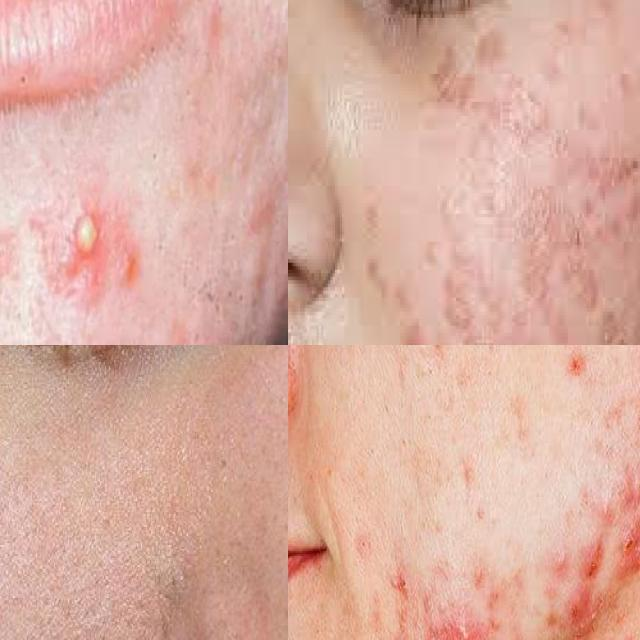comedone: (200, 416, 239, 520), (348, 497, 389, 583), (158, 556, 208, 622), (468, 345, 508, 404), (417, 345, 451, 390)
flat_wart: (507, 112, 637, 315), (393, 227, 509, 345)
papule: (559, 345, 593, 391)
pustule: (626, 382, 640, 434)
sebo-crystan-conglo: (553, 520, 605, 640), (613, 505, 640, 589), (420, 603, 479, 640)
